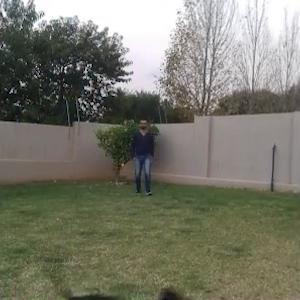follow: (132, 115, 154, 204)
